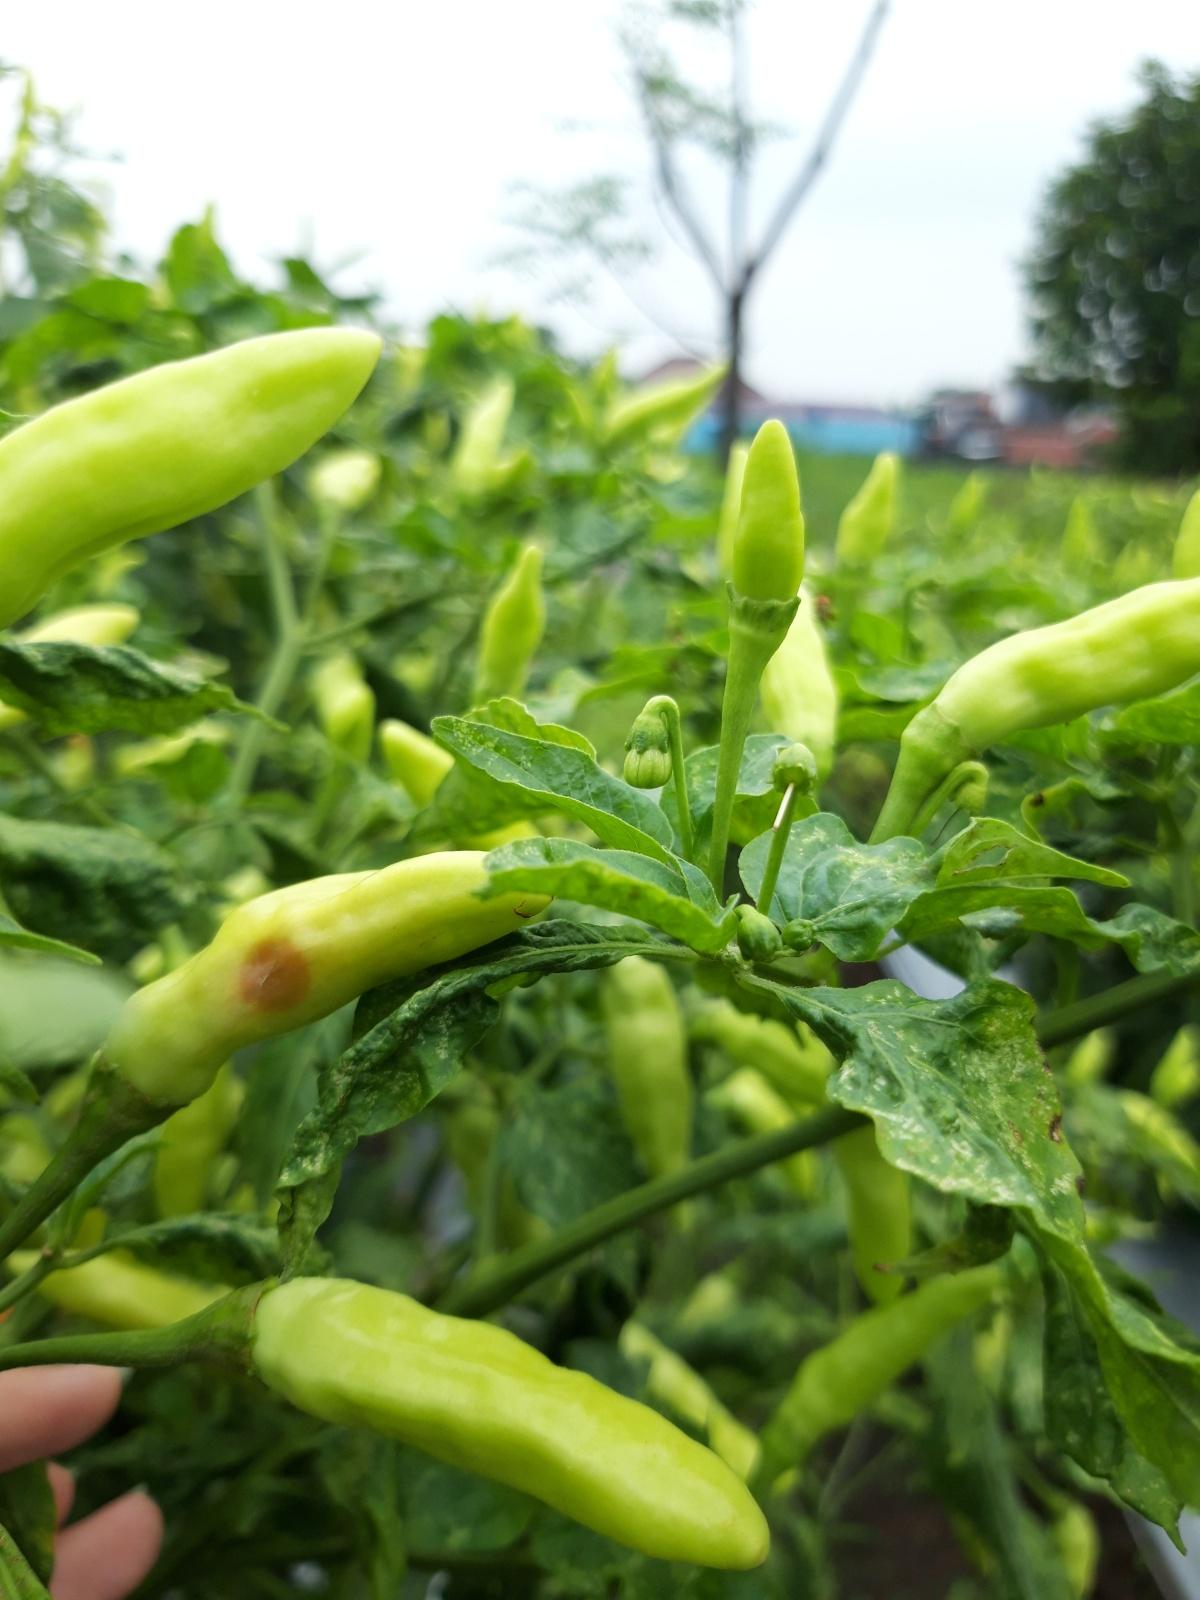cabai_normal: (216, 1279, 776, 1569), (0, 329, 387, 621), (903, 581, 1200, 772), (769, 1264, 1000, 1465), (725, 414, 805, 632), (474, 544, 546, 703), (834, 454, 897, 582)
lalat_buah: (83, 849, 552, 1140)
